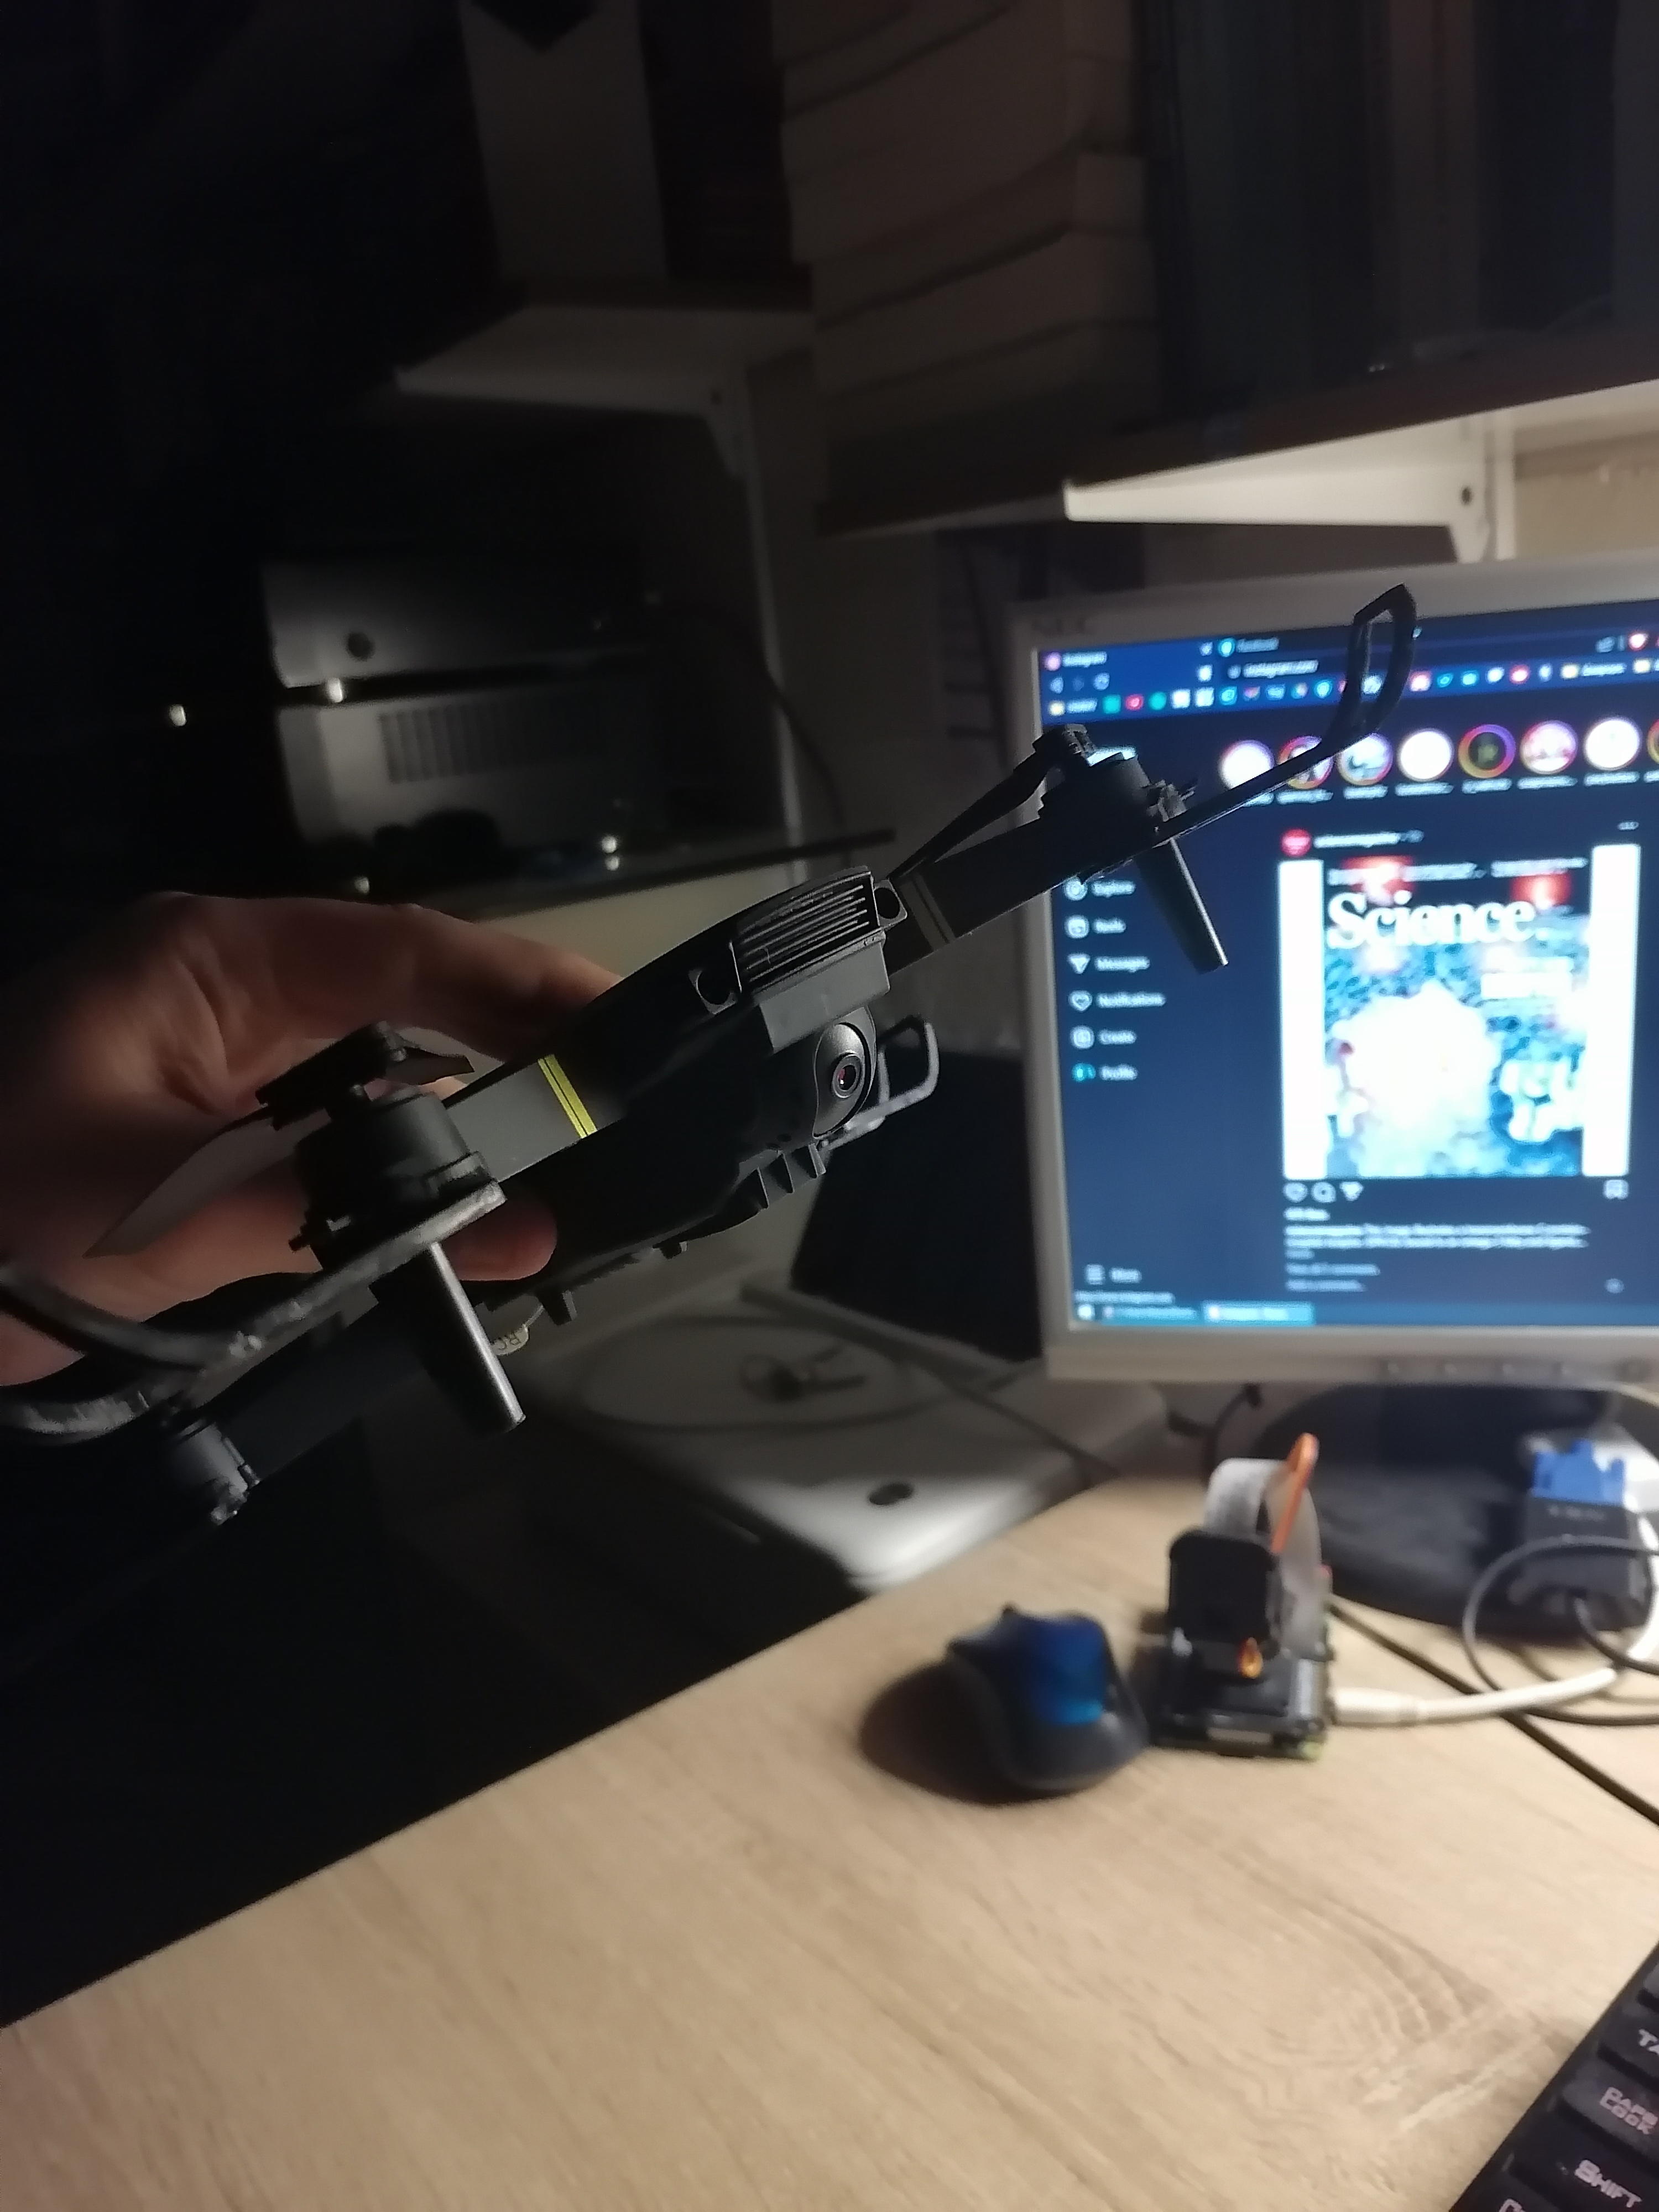drone: (19, 733, 1387, 1527)
